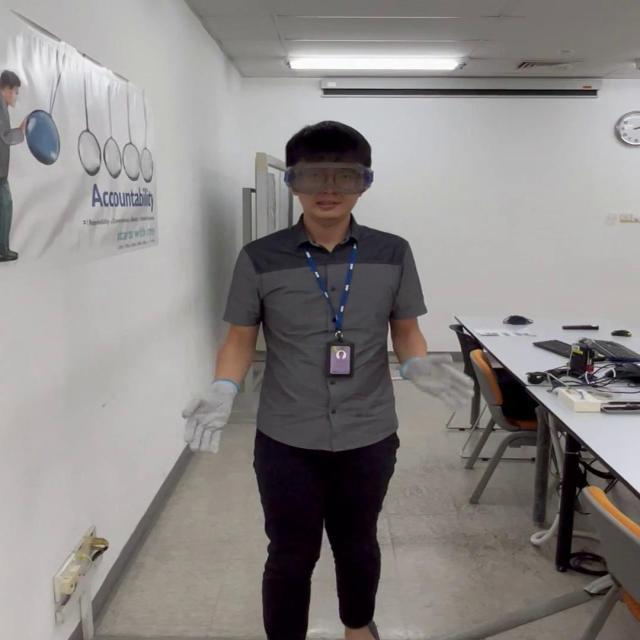gloved_hand: (183, 378, 249, 446), (401, 348, 468, 411)
